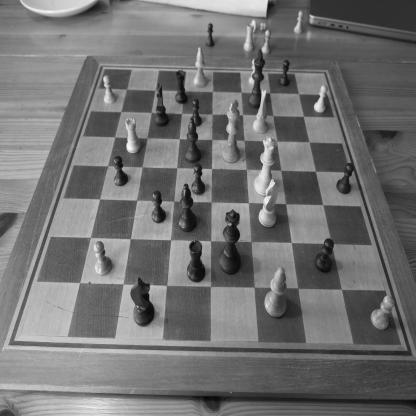black-bishop: (178, 183, 197, 233), (185, 118, 201, 163)
black-king: (247, 48, 266, 109)
black-knight: (130, 276, 155, 327), (154, 83, 169, 127)
black-pawn: (314, 238, 334, 273), (336, 162, 354, 195), (151, 190, 166, 224), (113, 155, 128, 187), (192, 162, 206, 194), (190, 98, 202, 127), (278, 59, 290, 87), (205, 23, 215, 47)
black-queen: (218, 209, 241, 275)
black-rook: (186, 239, 206, 283), (174, 70, 188, 104)
white-bishop: (264, 266, 287, 318), (193, 47, 207, 88)
white-king: (222, 99, 240, 164)
white-knight: (258, 178, 279, 228), (253, 89, 268, 134)
white-pawn: (370, 295, 395, 330), (93, 240, 113, 276), (313, 85, 328, 113), (102, 75, 116, 104), (293, 10, 304, 34), (261, 29, 271, 54), (250, 19, 266, 33), (248, 58, 256, 86)
white-queen: (254, 136, 278, 197)
white-rook: (125, 117, 141, 154), (243, 23, 254, 52)
